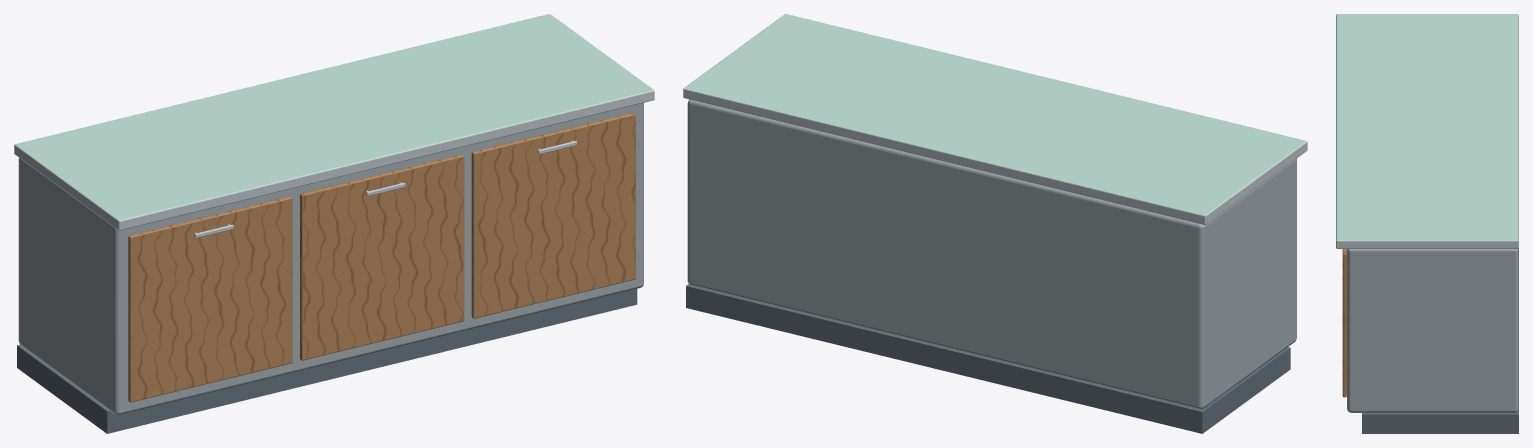
The model's file is SM_PackingStation.glb.
3 renders of one model, left to right at view 1: azimuth 30°, elevation 25°; view 2: azimuth 150°, elevation 25°; view 3: azimuth 270°, elevation 25°, orthographic. The views are drawn at different scales.
Visible parts, largest first — view 1: SM_PackingStation, Door_1, Door_3, Door_2; view 2: SM_PackingStation; view 3: SM_PackingStation, Door_3.
Part boxes in pixels (x1=…): SM_PackingStation: x1=14, y1=14, x2=654, y2=433; Door_1: x1=128, y1=196, x2=292, y2=402; Door_3: x1=471, y1=112, x2=635, y2=318; Door_2: x1=300, y1=154, x2=464, y2=360; SM_PackingStation: x1=683, y1=14, x2=1307, y2=433; SM_PackingStation: x1=1336, y1=14, x2=1518, y2=433; Door_3: x1=1342, y1=249, x2=1346, y2=397.
Size of the model in its own units: 2.5 by 1 by 0.85.
4 materials, 4 textured.
